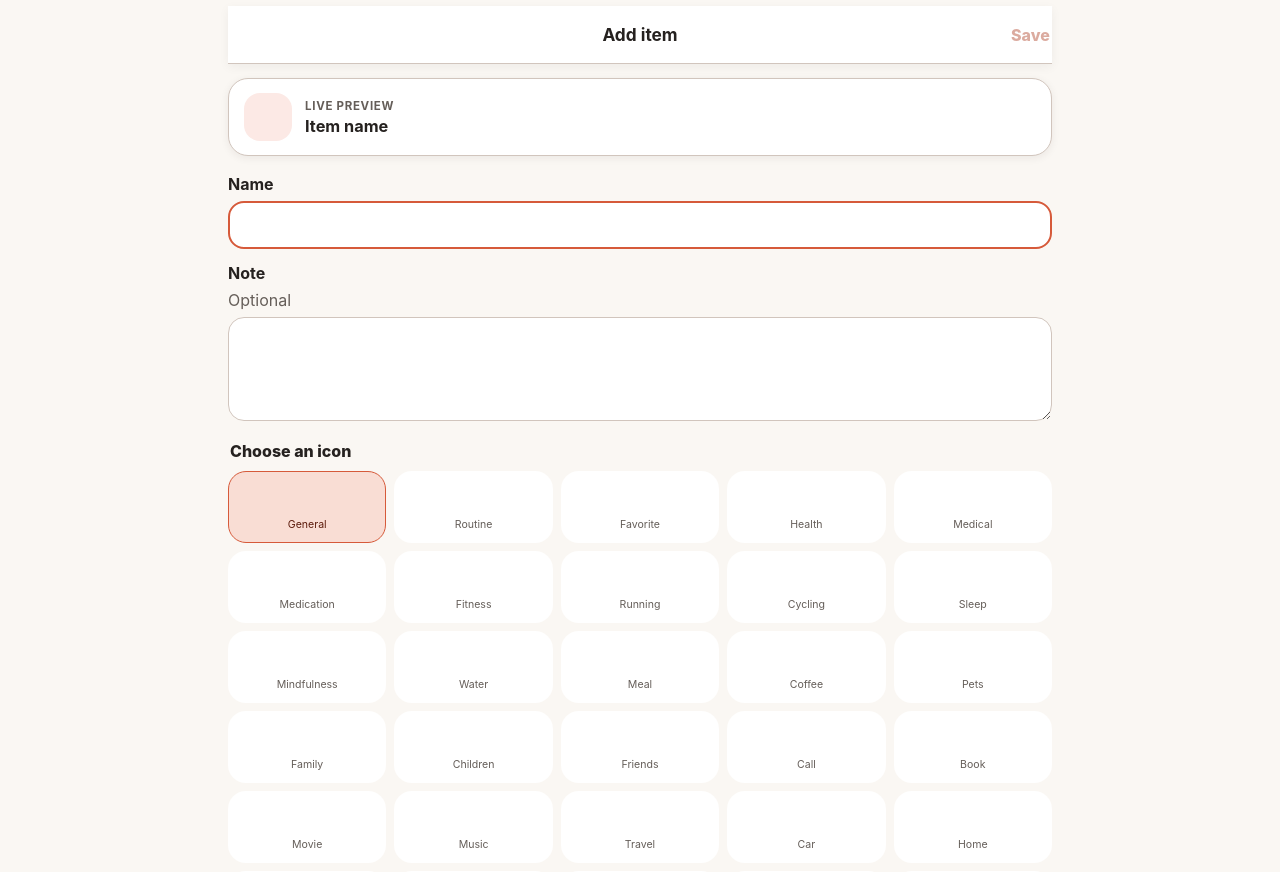
Test: event editor live preview › reacts immediately to name, icon, and color changes
Expected: the text "Item name" is shown, 305,116 -> 394,136
Step 1. Type "Synthetic preview" into the field labelled "Name" → [640, 225], box 228,201 -> 1052,249
(page scrolled)
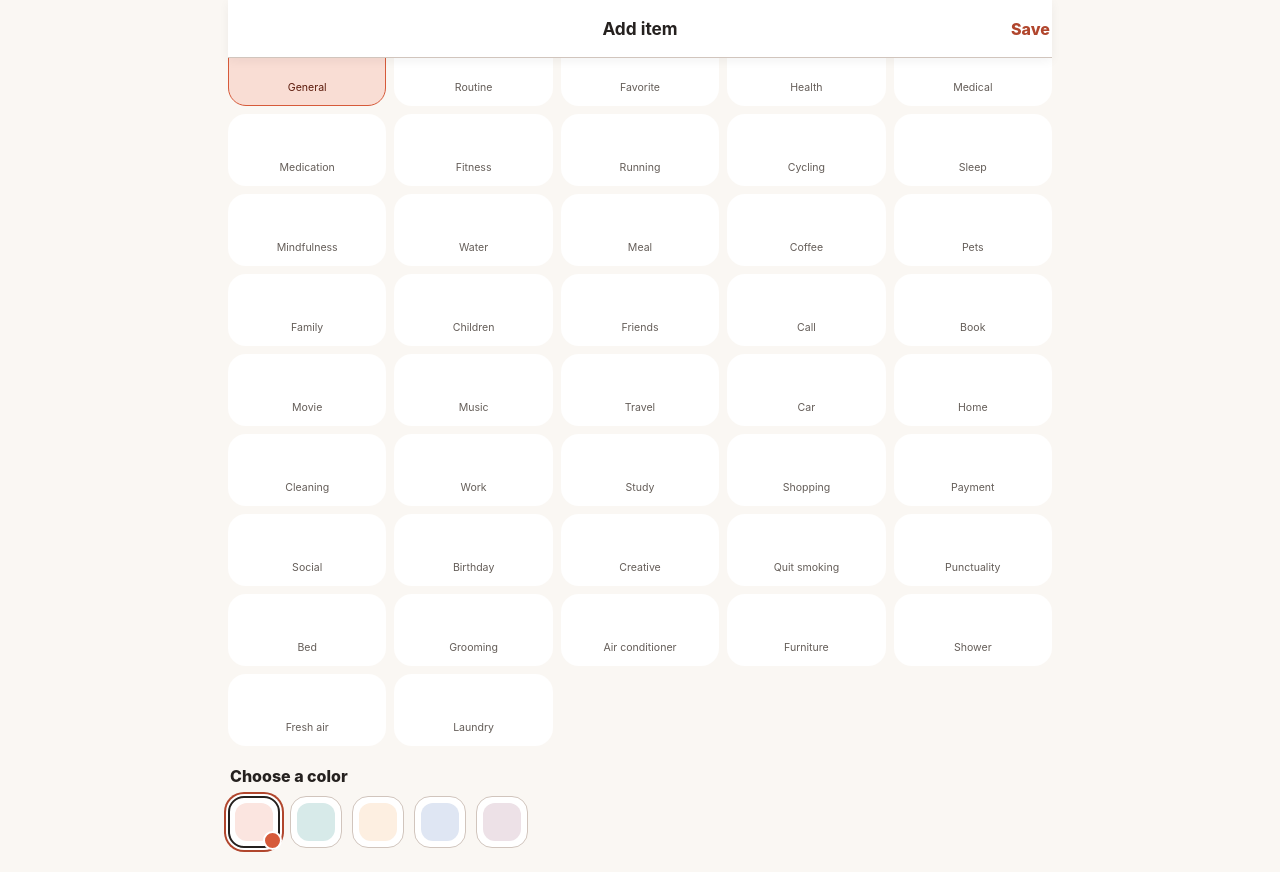
Step 2. Click the button labelled "Grooming" → [474, 630], box 394,594 -> 553,666
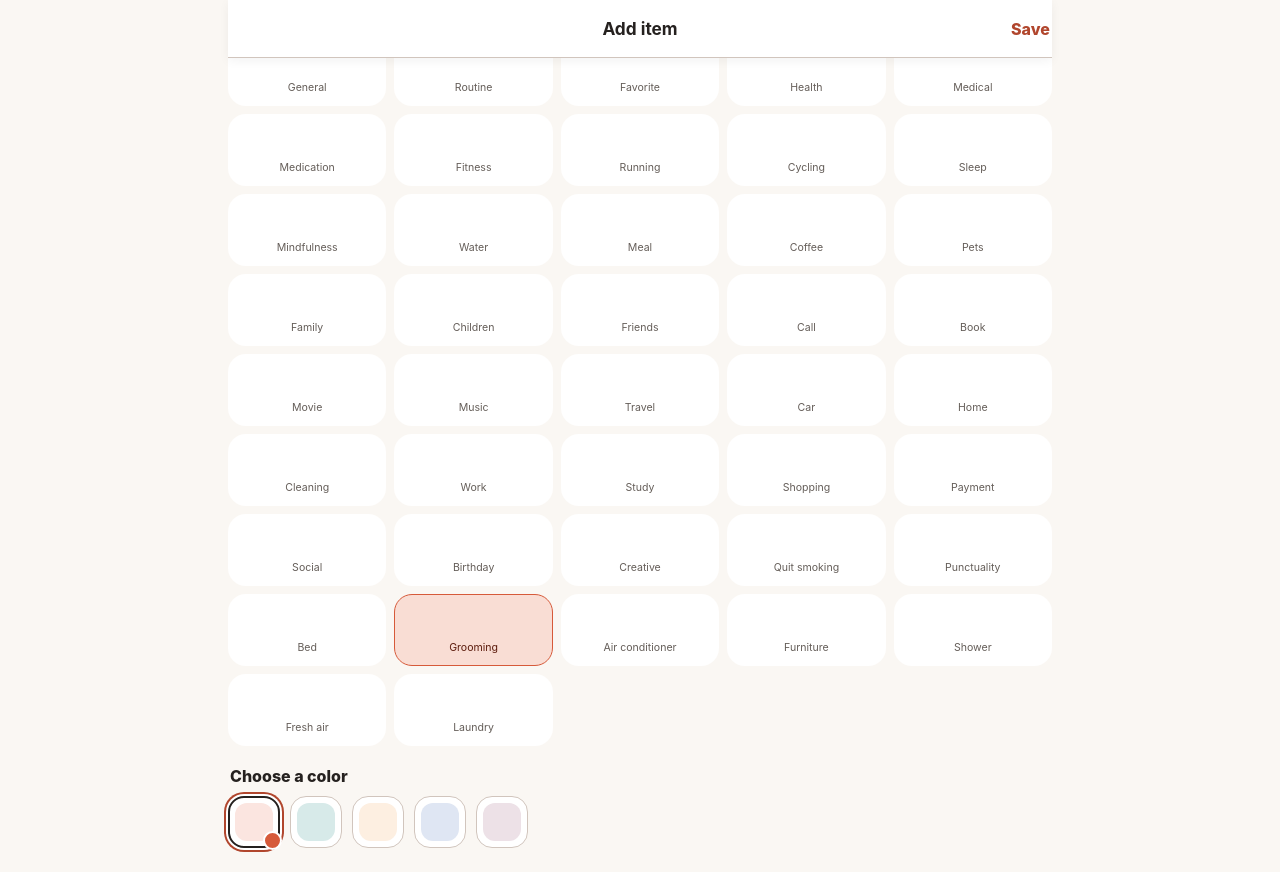
Step 3. Click the button named "#F2A65A" → [378, 822], box 352,796 -> 404,848
(page scrolled)
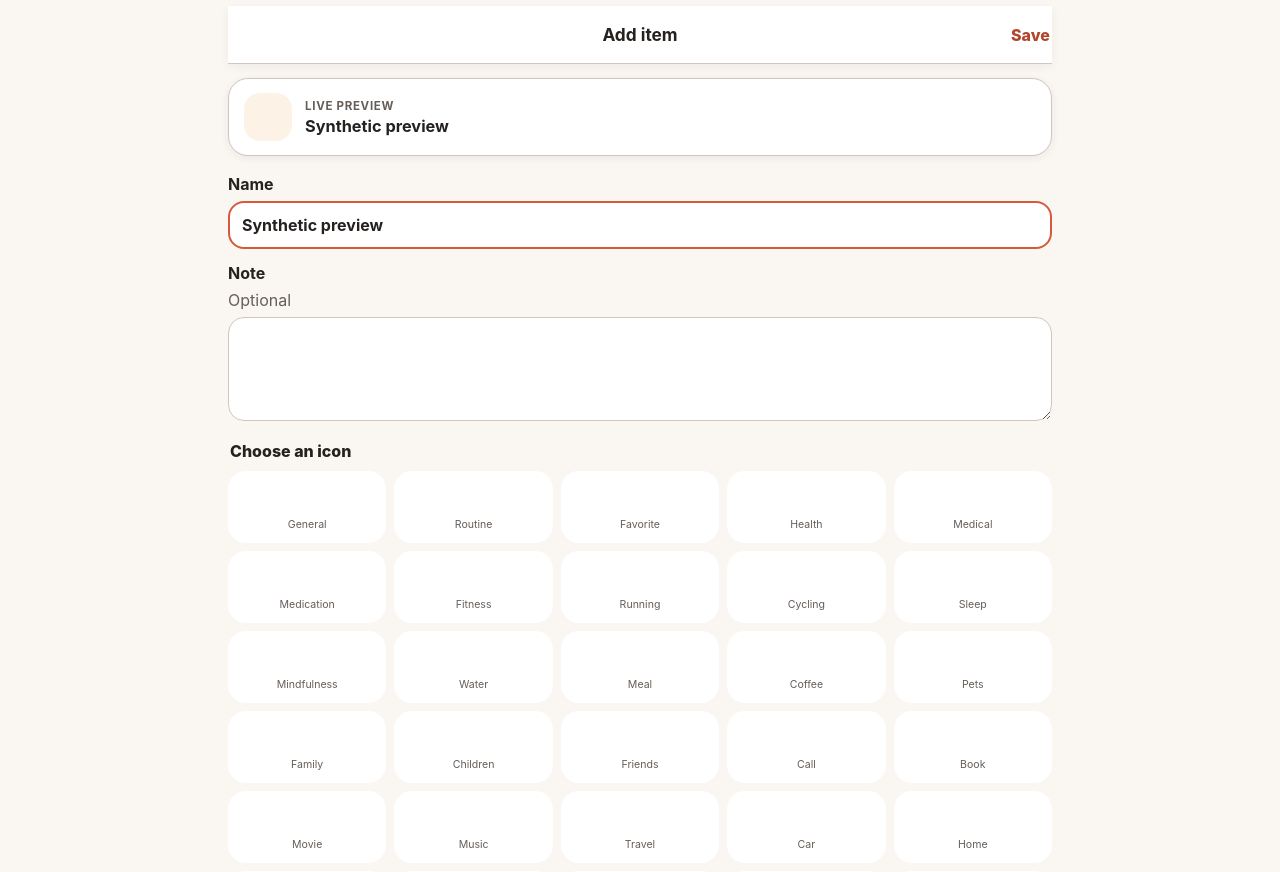
Expected: the text "Synthetic preview" is shown, 305,116 -> 449,136
